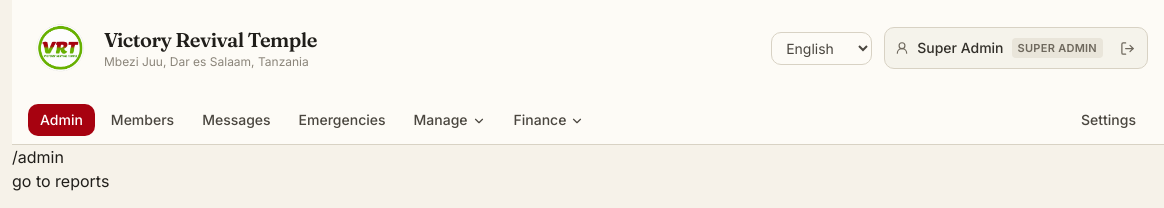
Test case: AppHeader chrome › logs out from the header
Click the button named "Log out": point(1127, 48) [1111,32,1143,64]
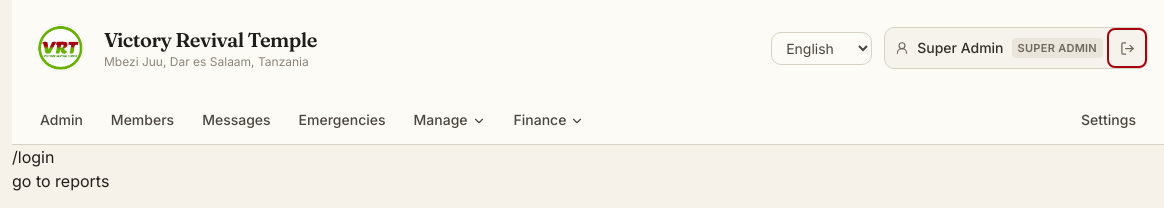
Check: the text with test id "path" reads "/login", box [12,147,54,167]
